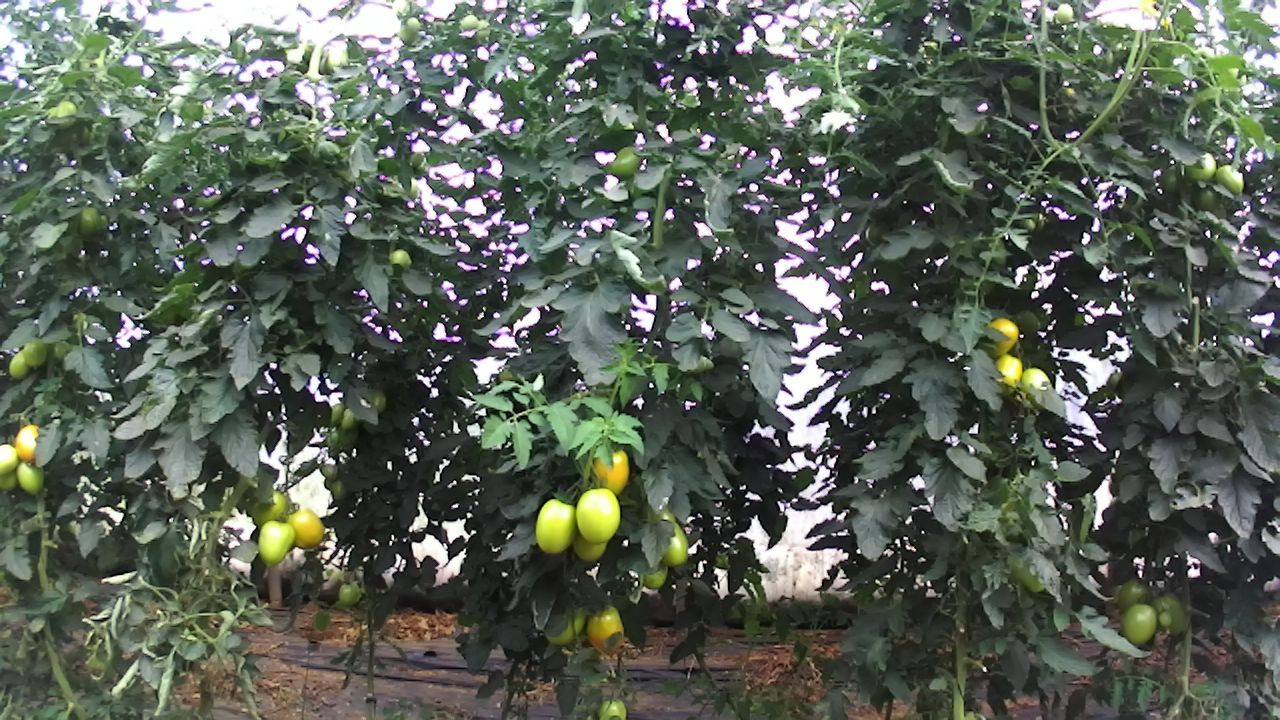tomato: (531, 494, 580, 559), (573, 483, 622, 546), (585, 601, 626, 655), (592, 445, 631, 499), (256, 519, 297, 570), (1117, 602, 1158, 649), (284, 505, 326, 550), (1153, 590, 1188, 637), (659, 519, 691, 570), (992, 351, 1024, 398), (987, 314, 1022, 356), (12, 422, 43, 465), (1115, 576, 1152, 612), (609, 144, 644, 180), (14, 458, 46, 496), (1213, 162, 1246, 195), (1185, 150, 1216, 183), (21, 335, 49, 371), (7, 347, 30, 380), (0, 442, 21, 477), (336, 580, 362, 608), (337, 406, 362, 433), (1156, 608, 1172, 629)
